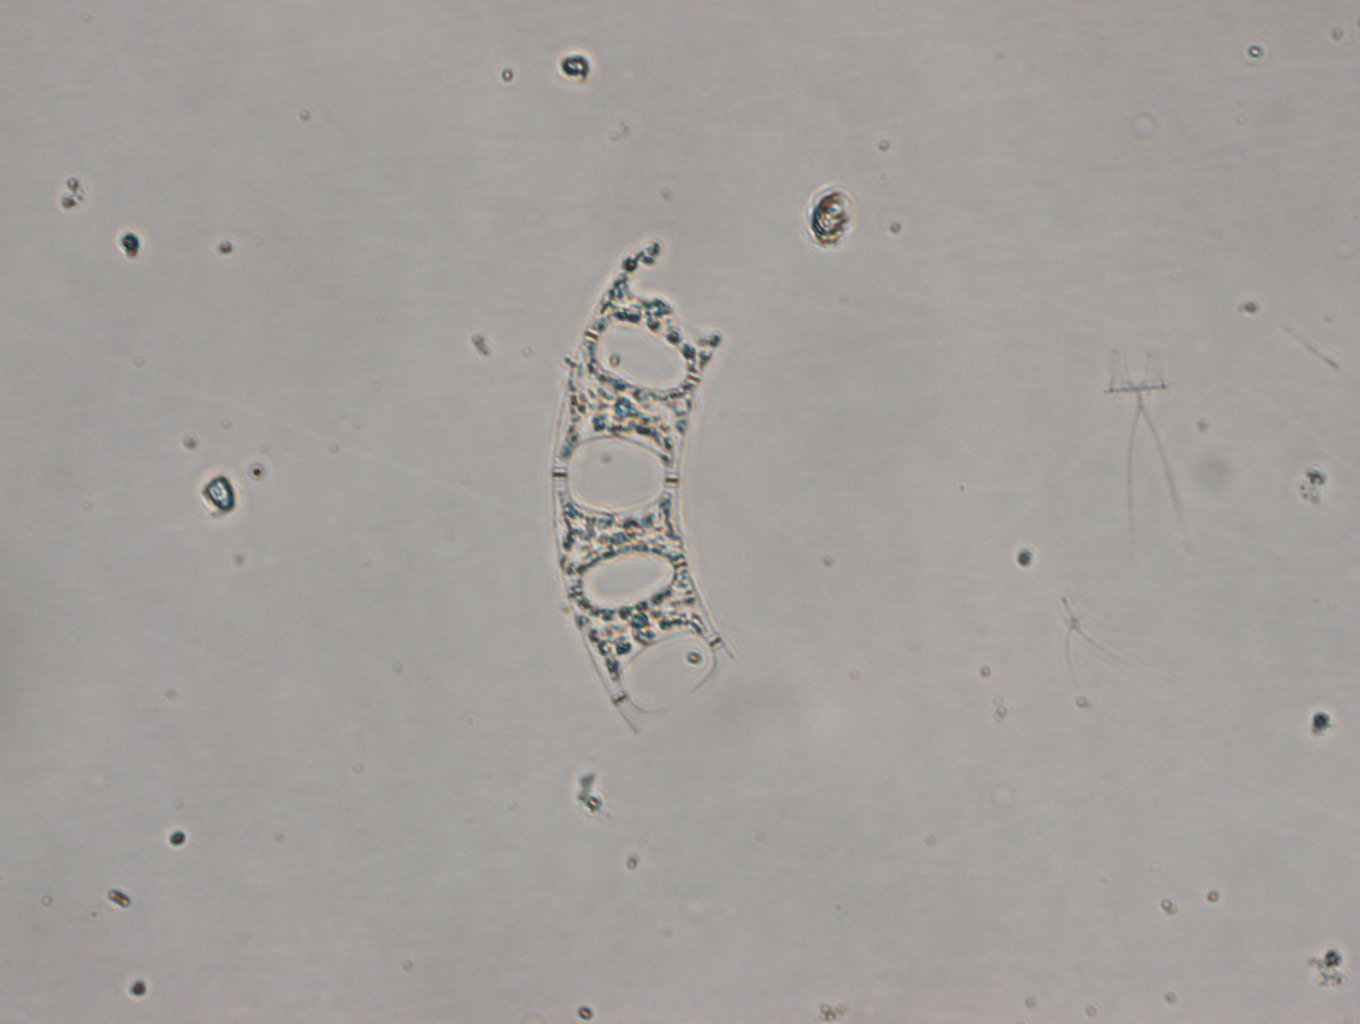chaetoceros: (1100, 340, 1192, 560)
eucampia: (547, 231, 739, 728)
